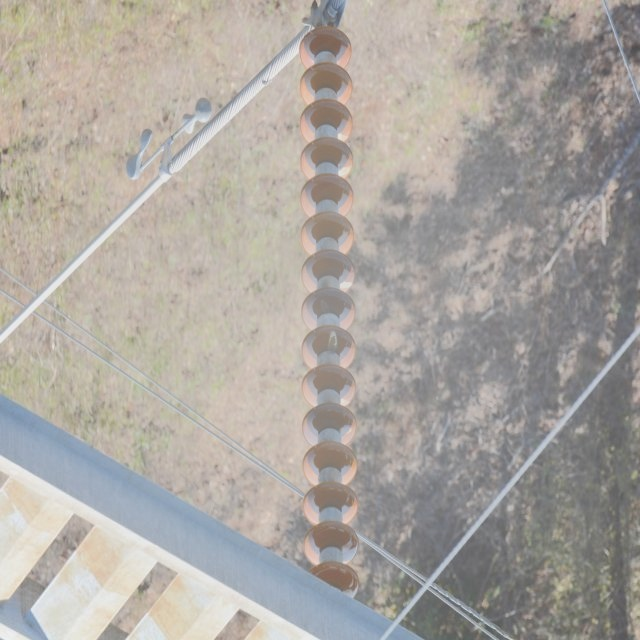insulator: (296, 30, 359, 599)
